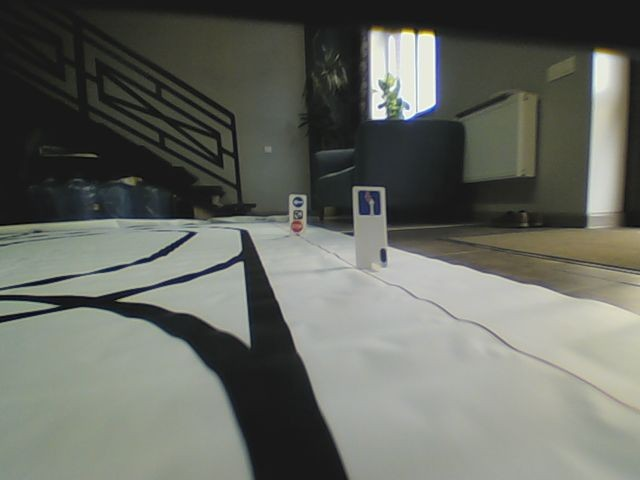priority_movement: (358, 189, 383, 216)
